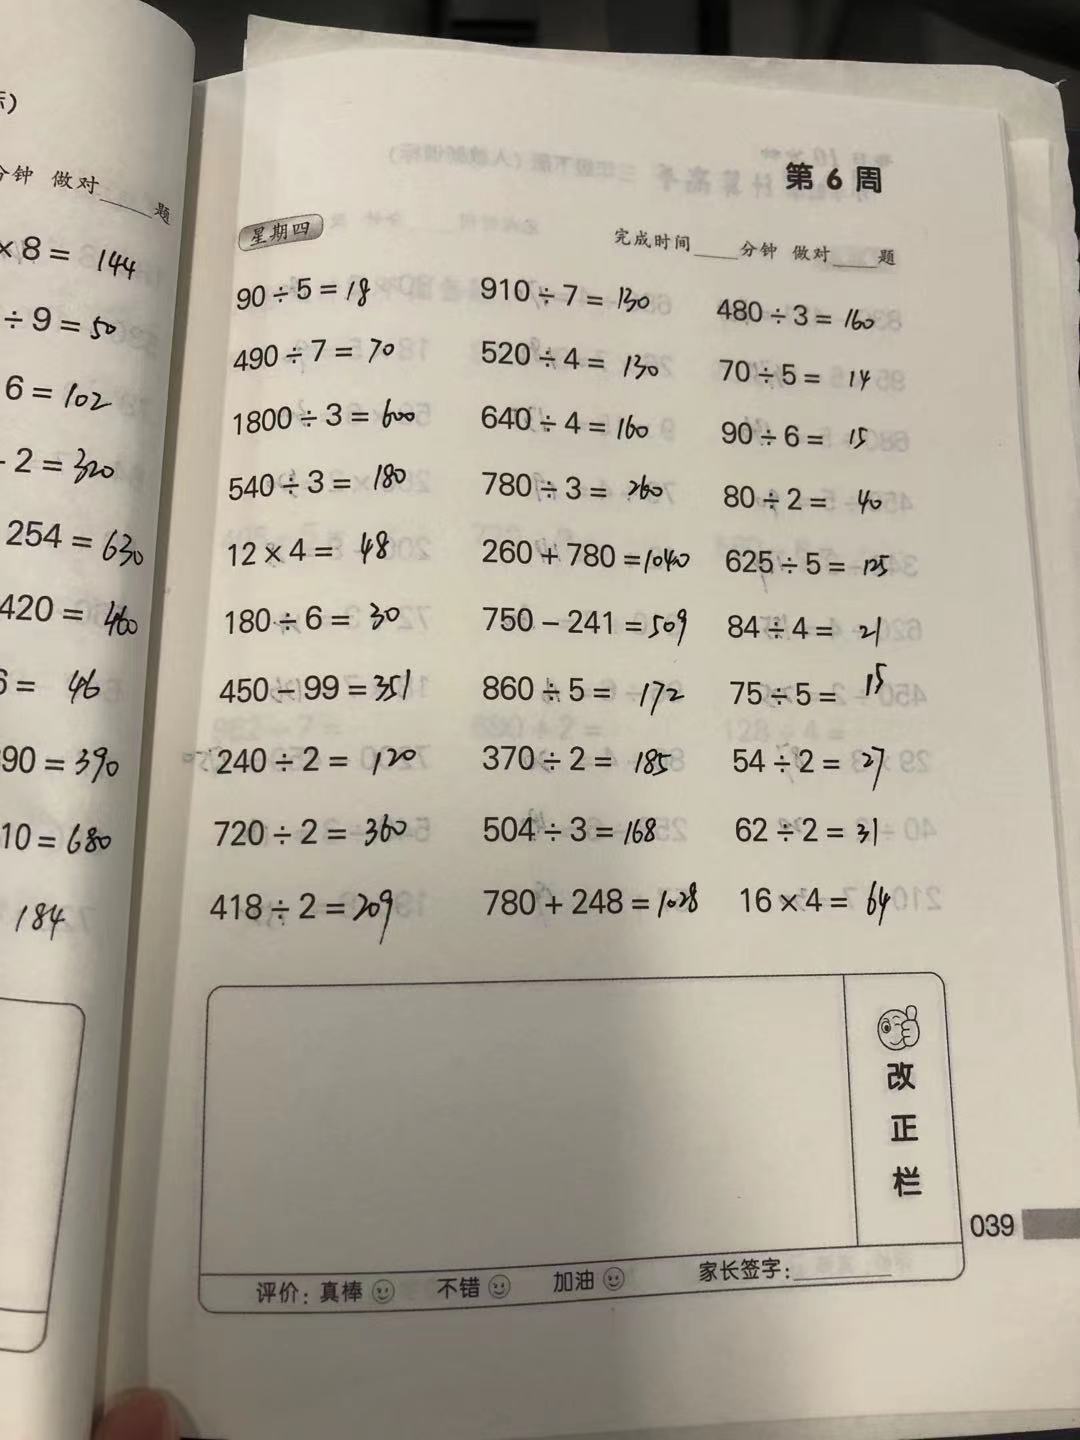equation: (189, 882, 421, 939), (479, 596, 719, 650), (474, 525, 707, 579), (196, 461, 459, 507), (486, 876, 716, 927), (465, 259, 670, 315), (473, 399, 681, 452), (461, 332, 684, 381), (725, 655, 905, 715), (191, 667, 427, 712), (476, 738, 687, 788), (222, 398, 457, 442), (464, 672, 704, 715), (719, 807, 917, 859), (476, 807, 681, 856), (221, 525, 419, 575), (711, 475, 908, 525), (210, 590, 422, 635), (722, 739, 917, 788), (725, 604, 916, 653), (704, 350, 896, 398), (470, 471, 694, 510), (729, 876, 904, 927), (199, 804, 422, 844), (717, 539, 923, 581), (699, 283, 876, 332), (217, 333, 413, 376), (196, 742, 421, 778), (219, 270, 387, 317), (704, 416, 894, 458)
